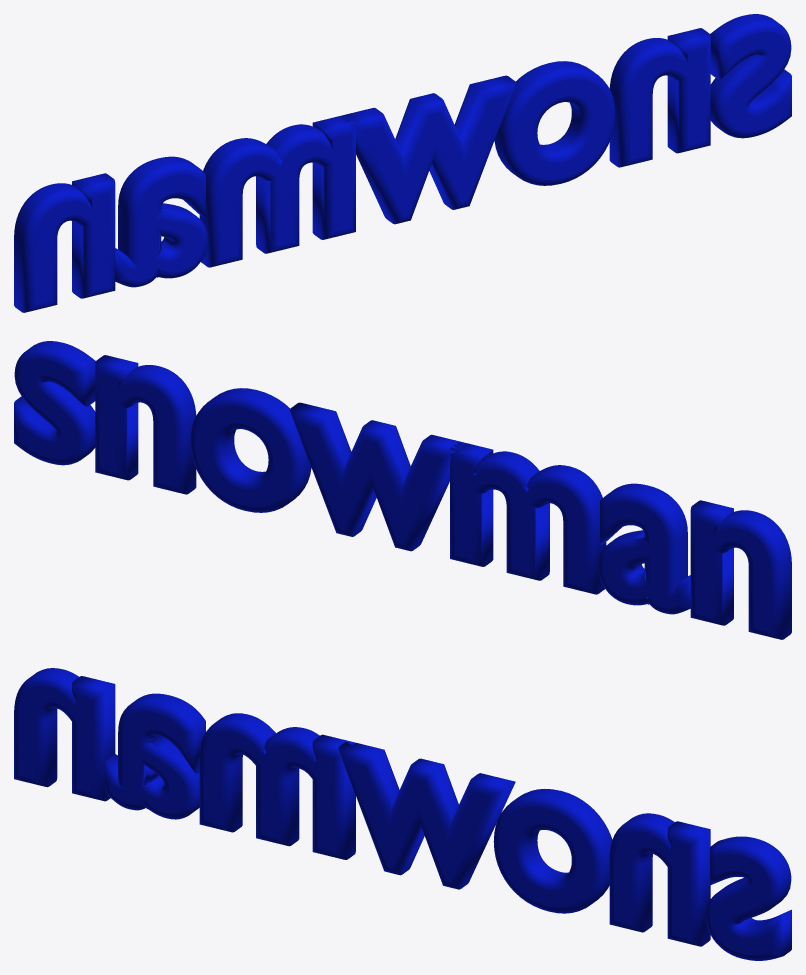
File: title.obj
3 renders of one model, top to bottom at view 1: azimuth 30°, elevation 25°; view 2: azimuth 150°, elevation 25°; view 3: azimuth 330°, elevation 25°, orthographic.
Parts seen in each view (by area): view 1: テキスト; view 2: テキスト; view 3: テキスト.
Boxes of the visible parts, box(x1,y1,x2,y2) form: テキスト: box(14, 14, 791, 312); テキスト: box(14, 341, 791, 639); テキスト: box(14, 668, 791, 960).
Size of the model in its own units: 38.32 by 5.47 by 1.4.
